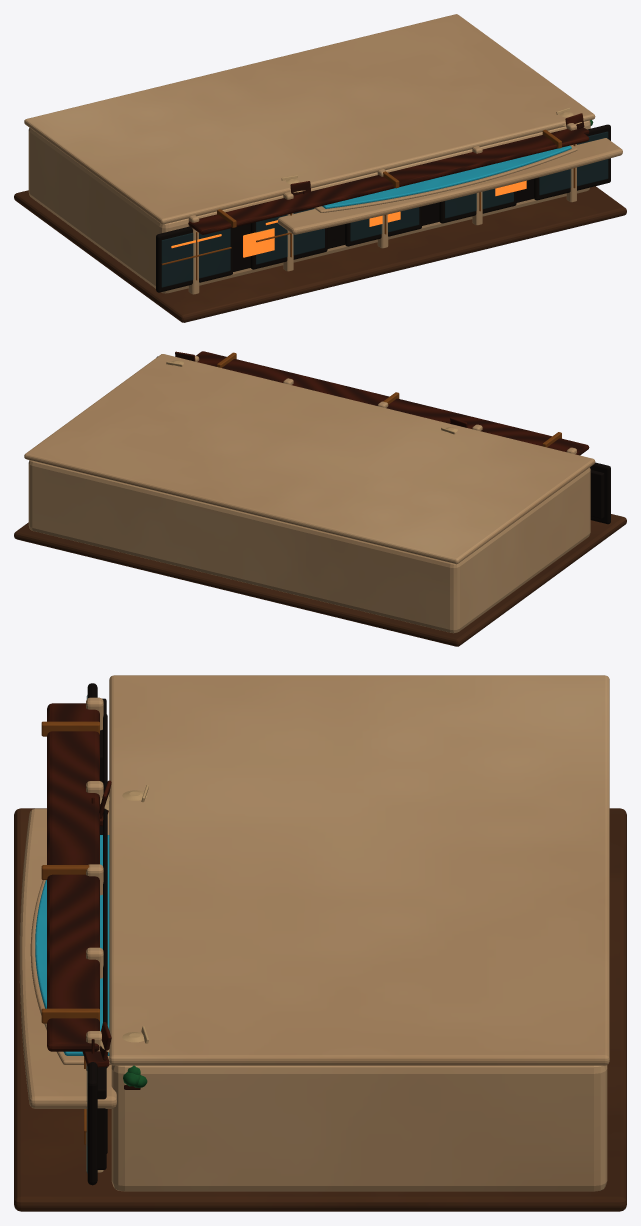
The model's file is hotel-base-detail.glb.
3 views of the same model, one above another, from view 1: azimuth 30°, elevation 25°; view 2: azimuth 150°, elevation 25°; view 3: azimuth 270°, elevation 25° (orthographic). The views are drawn at different scales.
Visible parts, largest first — view 1: ASSET_HOTEL_BASE_PaleTravertine, HotelBaseSlab, ASSET_HOTEL_BASE_DeepInterior, ASSET_HOTEL_BASE_ArchitecturalGlass, ASSET_HOTEL_BASE_DarkTeak, BasePoolPoolWater, ASSET_HOTEL_BASE_WarmEmissive, ASSET_HOTEL_BASE_AgedChampagneBrass; view 2: ASSET_HOTEL_BASE_PaleTravertine, HotelBaseSlab, ASSET_HOTEL_BASE_DarkTeak, ASSET_HOTEL_BASE_DeepInterior; view 3: ASSET_HOTEL_BASE_PaleTravertine, HotelBaseSlab, ASSET_HOTEL_BASE_DarkTeak, ASSET_HOTEL_BASE_DeepInterior, BasePoolPoolWater, ASSET_HOTEL_BASE_AgedChampagneBrass.
Boxes of the visible parts, <box> form: ASSET_HOTEL_BASE_PaleTravertine: <box>24,14,622,294</box>; HotelBaseSlab: <box>14,186,626,322</box>; ASSET_HOTEL_BASE_DeepInterior: <box>156,124,610,292</box>; ASSET_HOTEL_BASE_ArchitecturalGlass: <box>161,131,608,287</box>; ASSET_HOTEL_BASE_DarkTeak: <box>188,113,589,234</box>; BasePoolPoolWater: <box>322,145,571,208</box>; ASSET_HOTEL_BASE_WarmEmissive: <box>171,180,526,257</box>; ASSET_HOTEL_BASE_AgedChampagneBrass: <box>161,129,575,280</box>; ASSET_HOTEL_BASE_PaleTravertine: <box>24,354,595,633</box>; HotelBaseSlab: <box>14,514,626,646</box>; ASSET_HOTEL_BASE_DarkTeak: <box>175,351,589,455</box>; ASSET_HOTEL_BASE_DeepInterior: <box>156,356,610,524</box>; ASSET_HOTEL_BASE_PaleTravertine: <box>19,675,609,1191</box>; HotelBaseSlab: <box>14,808,626,1211</box>; ASSET_HOTEL_BASE_DarkTeak: <box>47,703,140,1089</box>; ASSET_HOTEL_BASE_DeepInterior: <box>87,683,107,1185</box>; BasePoolPoolWater: <box>35,835,109,1055</box>; ASSET_HOTEL_BASE_AgedChampagneBrass: <box>41,721,99,1144</box>.
Bounding box in the file's own units: 17 × 3.16 × 11.
Materials: 11 (11 with a texture image).
